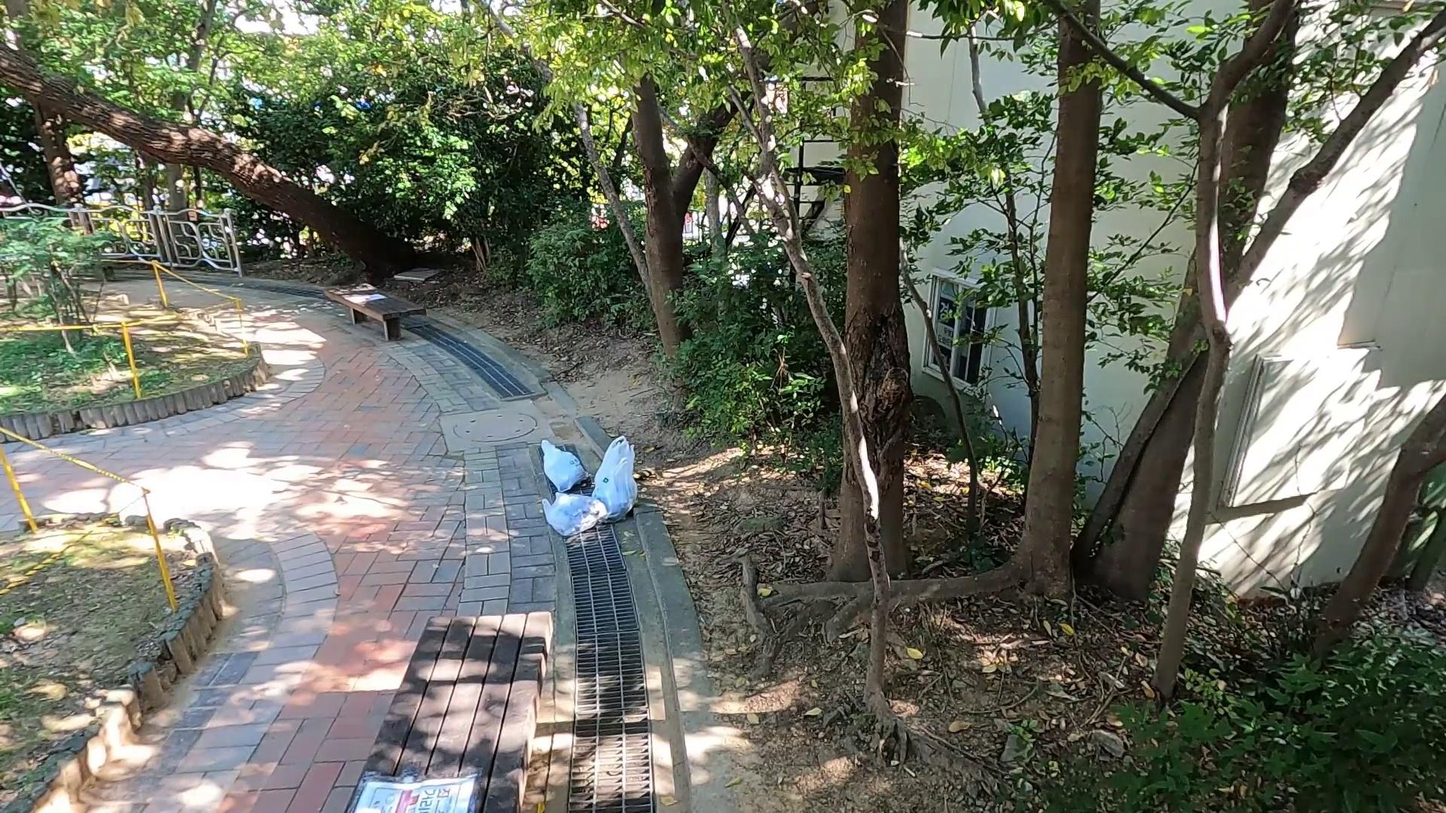trash: (590, 456, 639, 526), (538, 488, 607, 537), (540, 438, 590, 491), (594, 432, 639, 487)
